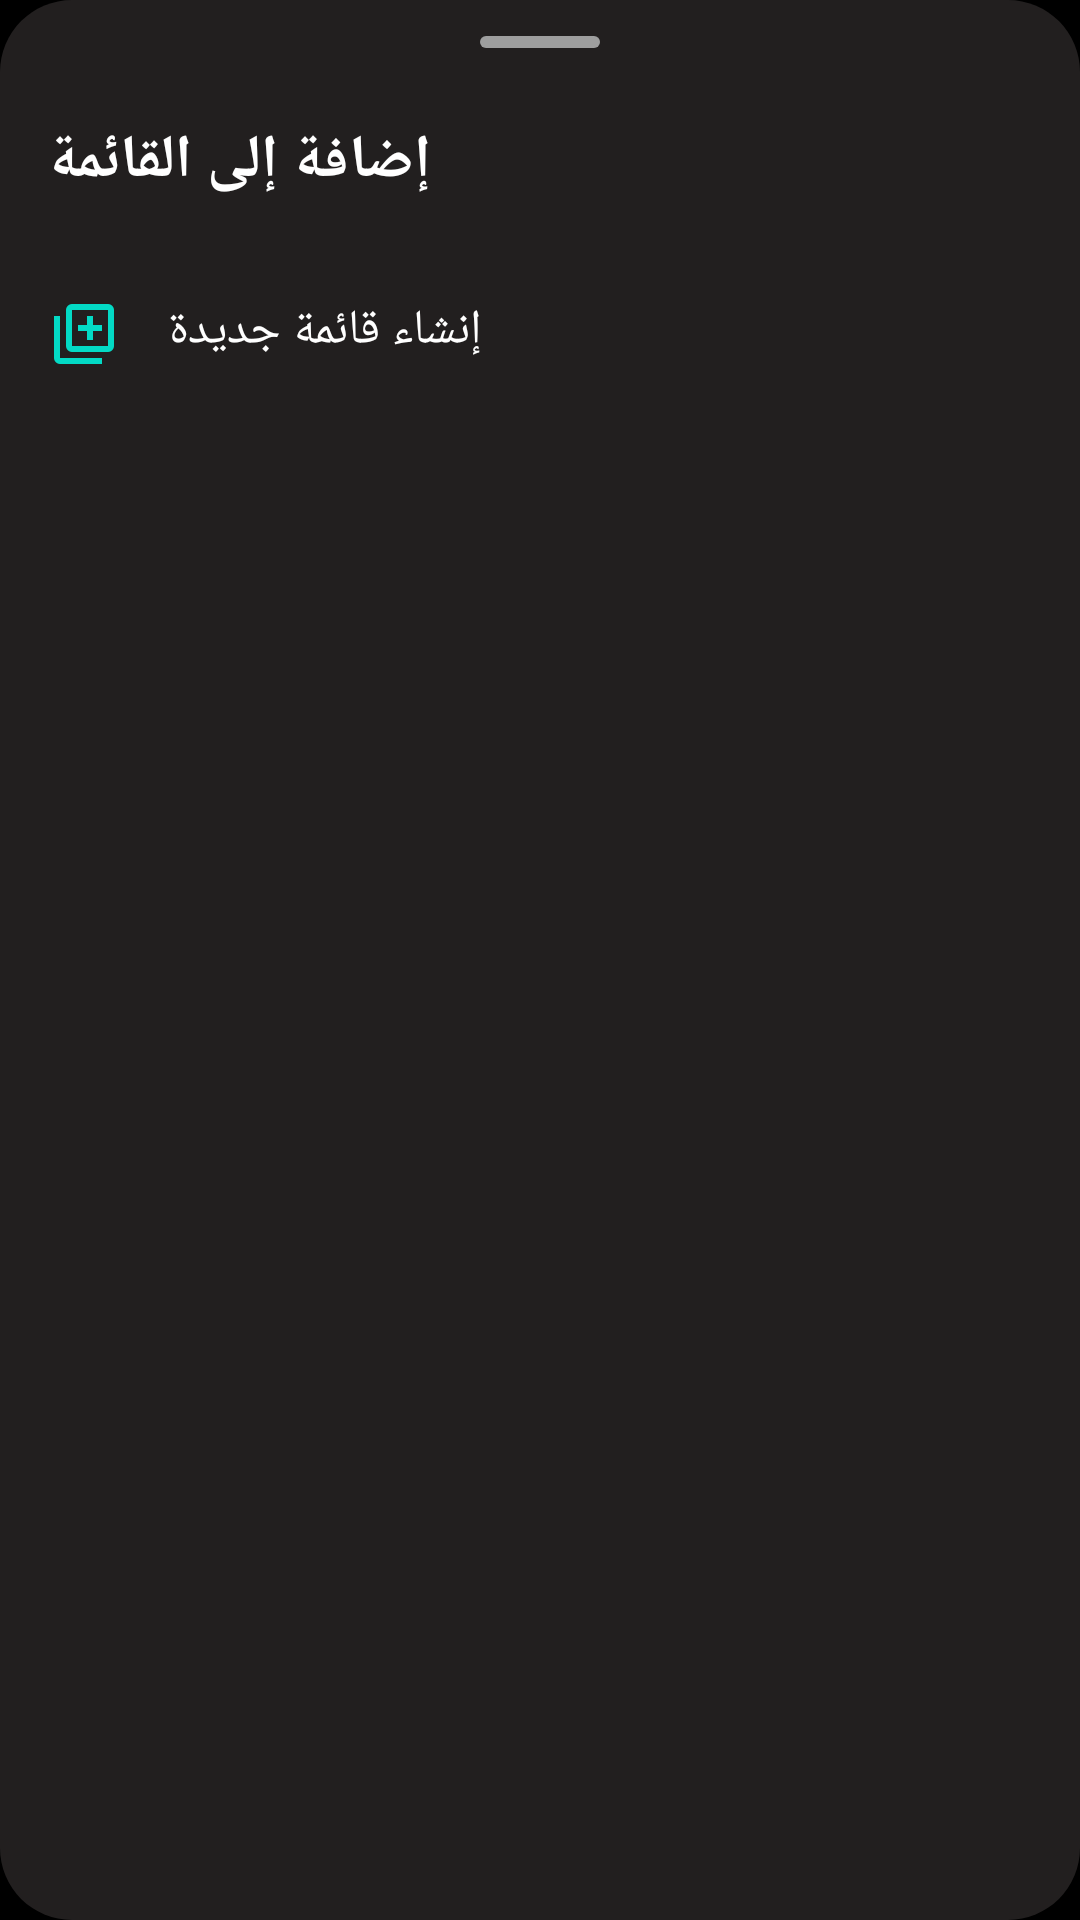

Icon click points for this 1080 × 1920 phone screenshot, format (x,y):
add: (84,334)
